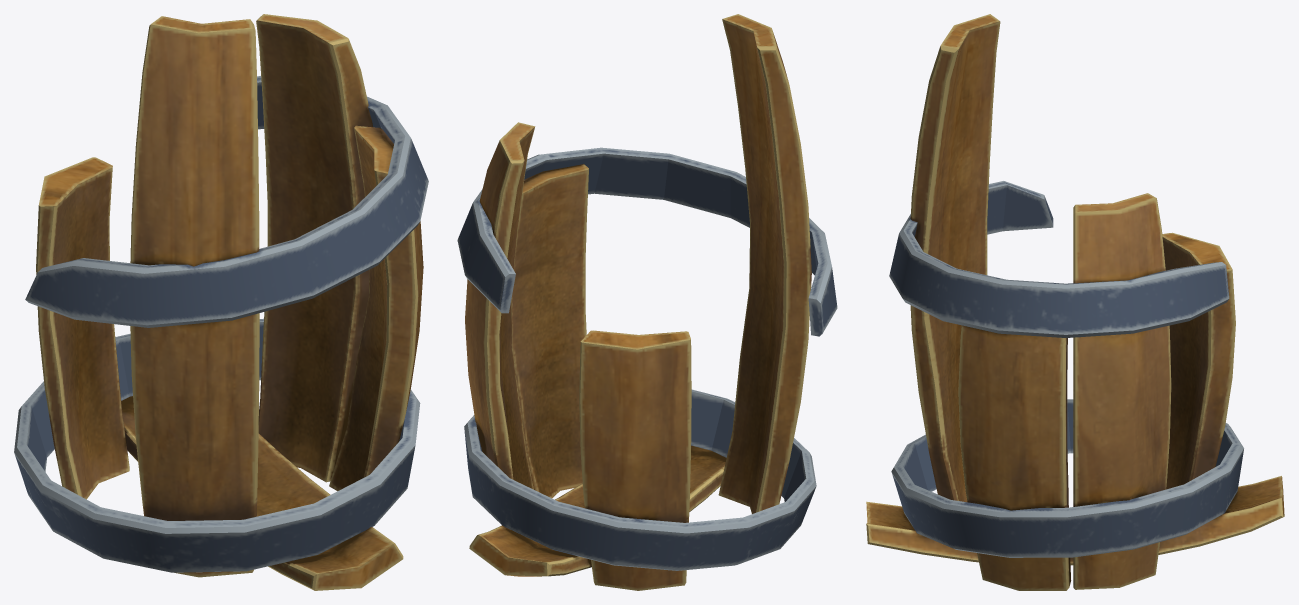
Rendered from Barrel_Broken.fbx.
3 renders of one model, left to right at view 1: azimuth 30°, elevation 25°; view 2: azimuth 150°, elevation 25°; view 3: azimuth 270°, elevation 25°, orthographic. The views are drawn at different scales.
Parts seen in each view (by area): view 1: polySurface40, polySurface38, polySurface36, polySurface37, polySurface39, polySurface35, polySurface41; view 2: polySurface40, polySurface39, polySurface35, polySurface37, polySurface36, polySurface38, polySurface41; view 3: polySurface38, polySurface40, polySurface36, polySurface35, polySurface37, polySurface39, polySurface41.
Part boxes in pixels (<box>): polySurface40: <box>130,16,259,577</box>; polySurface38: <box>256,14,372,482</box>; polySurface36: <box>25,76,428,327</box>; polySurface37: <box>14,318,420,572</box>; polySurface39: <box>36,157,129,499</box>; polySurface35: <box>329,125,423,491</box>; polySurface41: <box>121,396,403,590</box>; polySurface40: <box>718,14,811,513</box>; polySurface39: <box>579,330,691,590</box>; polySurface35: <box>512,164,588,498</box>; polySurface37: <box>464,389,816,570</box>; polySurface36: <box>457,147,837,336</box>; polySurface38: <box>465,122,535,489</box>; polySurface41: <box>469,445,726,576</box>; polySurface38: <box>1073,193,1171,589</box>; polySurface40: <box>910,14,1000,502</box>; polySurface36: <box>889,181,1229,337</box>; polySurface35: <box>958,325,1071,590</box>; polySurface37: <box>891,399,1243,557</box>; polySurface39: <box>1162,232,1235,489</box>; polySurface41: <box>866,476,1284,565</box>.
Size of the model in its own units: 13719 by 19266 by 14930.
1 material, 1 textured.
